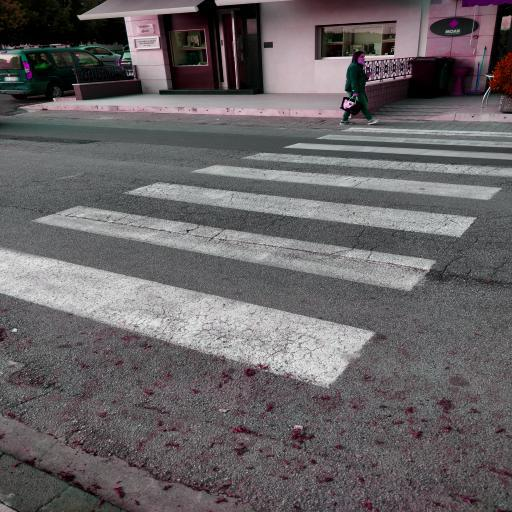crosswalk: (26, 176, 480, 300), (276, 132, 512, 164)
